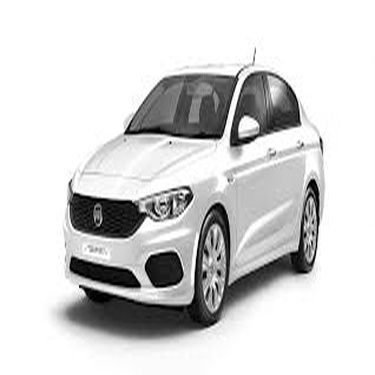car: (57, 48, 333, 332)
